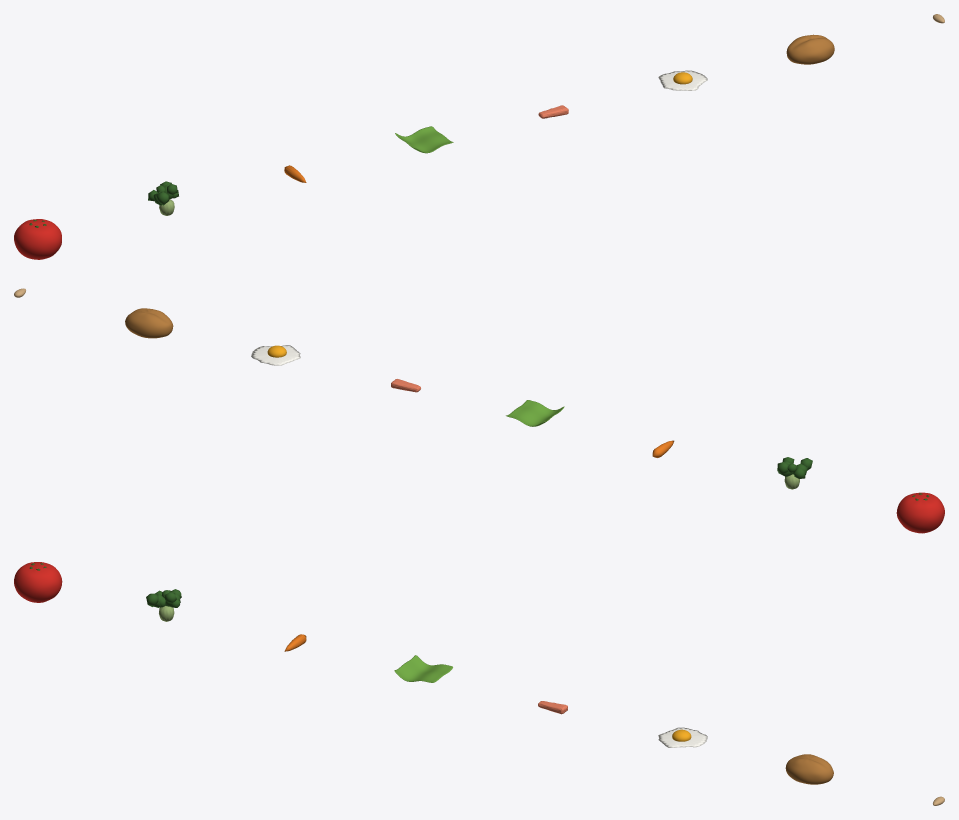
Rendered from food.glb.
The picture shows the model from 3 angles, top to bottom: view 1: azimuth 30°, elevation 25°; view 2: azimuth 150°, elevation 25°; view 3: azimuth 330°, elevation 25°; orthographic projection.
Parts seen in each view (by area): view 1: tomato, bread, lettuce, egg, broccoli; view 2: tomato, bread, lettuce, egg, broccoli; view 3: tomato, bread, lettuce, egg, broccoli.
Boxes of the visible parts, x1,y1,x2,y2 form: tomato: [14, 219, 61, 259]; bread: [786, 34, 834, 64]; lettuce: [395, 126, 453, 153]; egg: [658, 70, 707, 90]; broccoli: [148, 181, 178, 215]; tomato: [896, 492, 944, 533]; bread: [125, 308, 173, 338]; lettuce: [506, 400, 564, 426]; egg: [251, 345, 300, 365]; broccoli: [777, 457, 812, 489]; tomato: [14, 562, 62, 602]; bread: [785, 754, 833, 784]; lettuce: [394, 655, 452, 682]; egg: [658, 727, 707, 747]; broccoli: [146, 589, 181, 621].
Size of the model in its own units: 21.58 by 0.9215 by 1.02.
